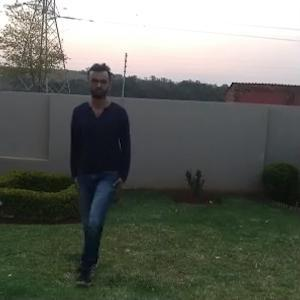follow: (69, 57, 134, 274)
